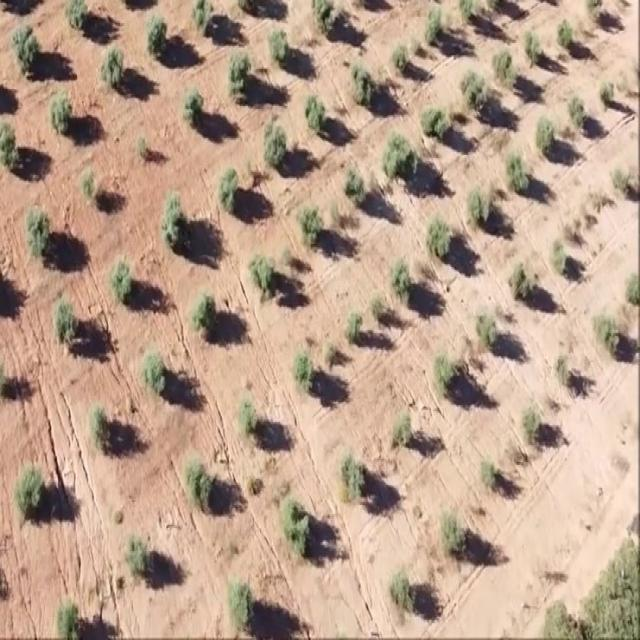trees: (42, 283, 86, 368), (275, 484, 320, 562), (101, 244, 143, 324), (328, 441, 372, 517), (587, 294, 630, 369), (378, 125, 422, 195), (180, 439, 220, 516), (116, 522, 160, 590), (219, 575, 265, 640), (84, 393, 122, 471), (18, 190, 55, 265), (8, 454, 47, 522), (4, 10, 44, 76), (431, 494, 468, 564), (257, 104, 290, 176), (421, 203, 458, 266), (515, 387, 544, 465), (212, 149, 242, 220), (187, 284, 223, 343), (451, 62, 486, 122), (296, 187, 329, 250), (136, 9, 172, 65), (159, 177, 187, 249), (345, 52, 377, 115), (290, 336, 319, 404), (220, 46, 254, 103), (247, 242, 280, 300), (487, 37, 519, 96), (301, 77, 329, 144), (136, 348, 172, 399), (381, 560, 413, 617), (460, 174, 495, 226), (94, 42, 126, 98), (384, 247, 416, 303), (504, 248, 536, 304), (419, 101, 454, 151), (606, 160, 636, 218), (71, 157, 102, 213), (342, 151, 370, 213), (175, 76, 209, 127), (234, 388, 266, 442), (542, 227, 578, 274), (497, 146, 530, 197), (472, 451, 501, 509), (52, 592, 86, 640), (261, 14, 292, 66), (384, 400, 416, 450), (433, 347, 464, 398), (550, 10, 581, 60), (46, 81, 72, 140), (530, 104, 558, 154), (474, 304, 501, 352), (551, 341, 573, 398), (420, 0, 444, 50), (562, 87, 591, 128), (337, 301, 362, 348), (388, 35, 415, 78), (519, 23, 544, 66), (595, 73, 617, 112), (623, 258, 640, 301)
